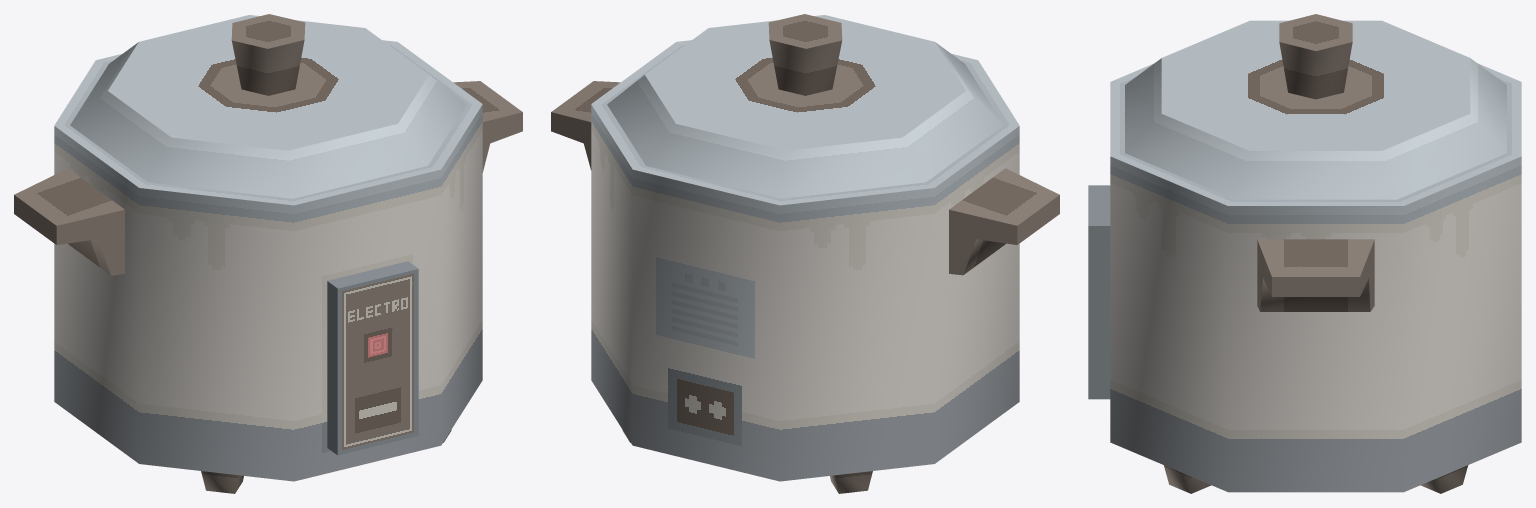
File: 01d0_Rice_Cooker.glb
3 views of the same model, side by side, from view 1: azimuth 30°, elevation 25°; view 2: azimuth 150°, elevation 25°; view 3: azimuth 270°, elevation 25° (orthographic). The views are drawn at different scales.
Parts seen in each view (by area): view 1: part_0; view 2: part_0; view 3: part_0.
Part boxes in pixels (left/top/right/bottom): part_0: left=14, top=14, right=522, bottom=493; part_0: left=551, top=14, right=1059, bottom=493; part_0: left=1088, top=14, right=1521, bottom=493.
Size of the model in its own units: 0.38 by 0.3 by 0.295.
1 material, 1 textured.
